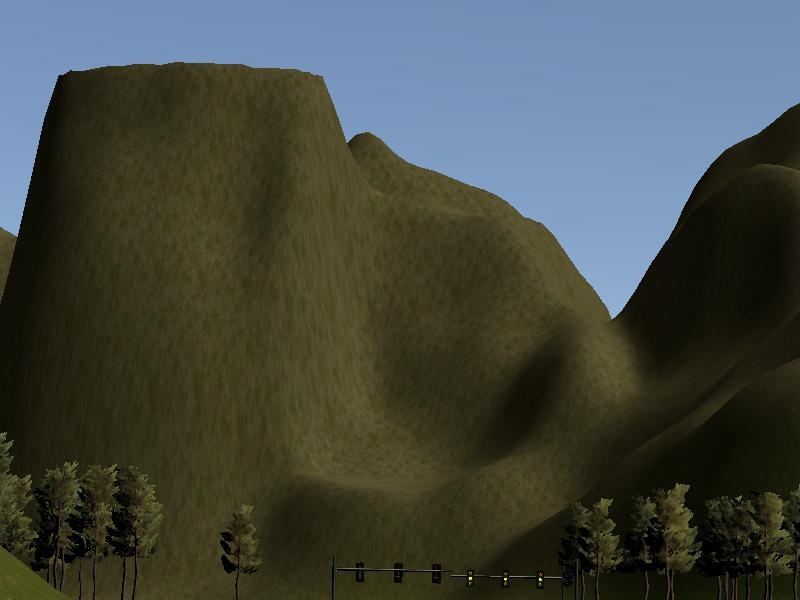yellow: (500, 570, 510, 589), (536, 570, 545, 591), (466, 569, 475, 587)
